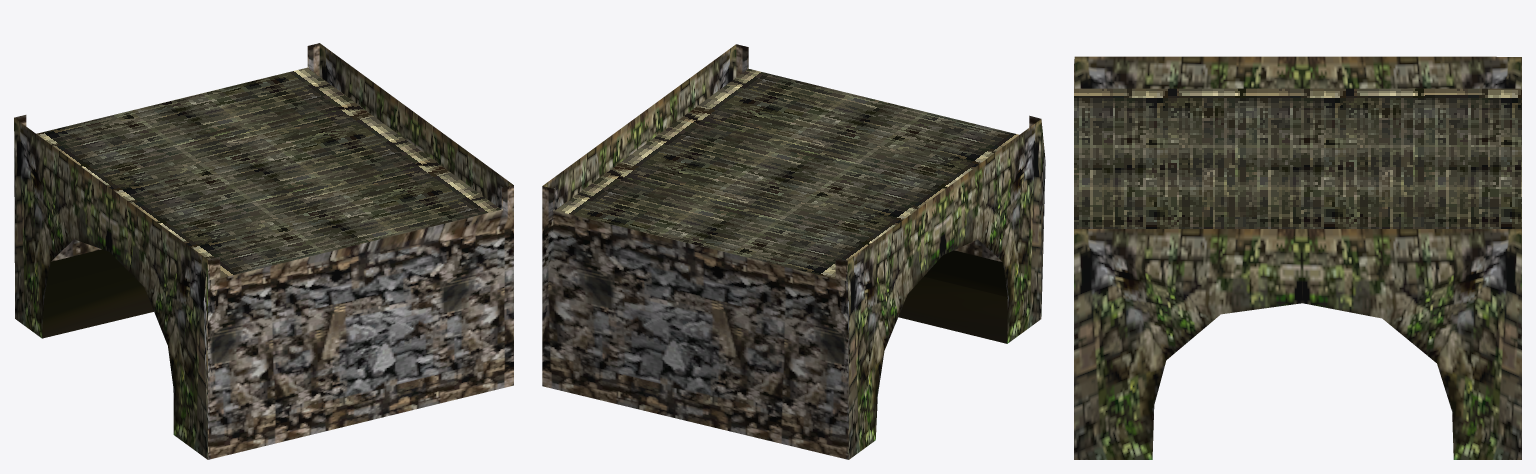
File: Civilian - Commercial Building - Fortress Wall Small Arch - Damaged - CMWalAkml2_D.glb
3 views of the same model, side by side, from view 1: azimuth 30°, elevation 25°; view 2: azimuth 150°, elevation 25°; view 3: azimuth 270°, elevation 25° (orthographic). The views are drawn at different scales.
Parts seen in each view (by area): view 1: CMWALAKML2_D; view 2: CMWALAKML2_D; view 3: CMWALAKML2_D.
Boxes of the visible parts, x1=… form: CMWALAKML2_D: x1=14, y1=43, x2=513, y2=459; CMWALAKML2_D: x1=542, y1=44, x2=1045, y2=459; CMWALAKML2_D: x1=1074, y1=56, x2=1521, y2=459.
Bounding box in the file's own units: 59.67 × 43.6 × 64.54.
Materials: 5 (5 with a texture image).
